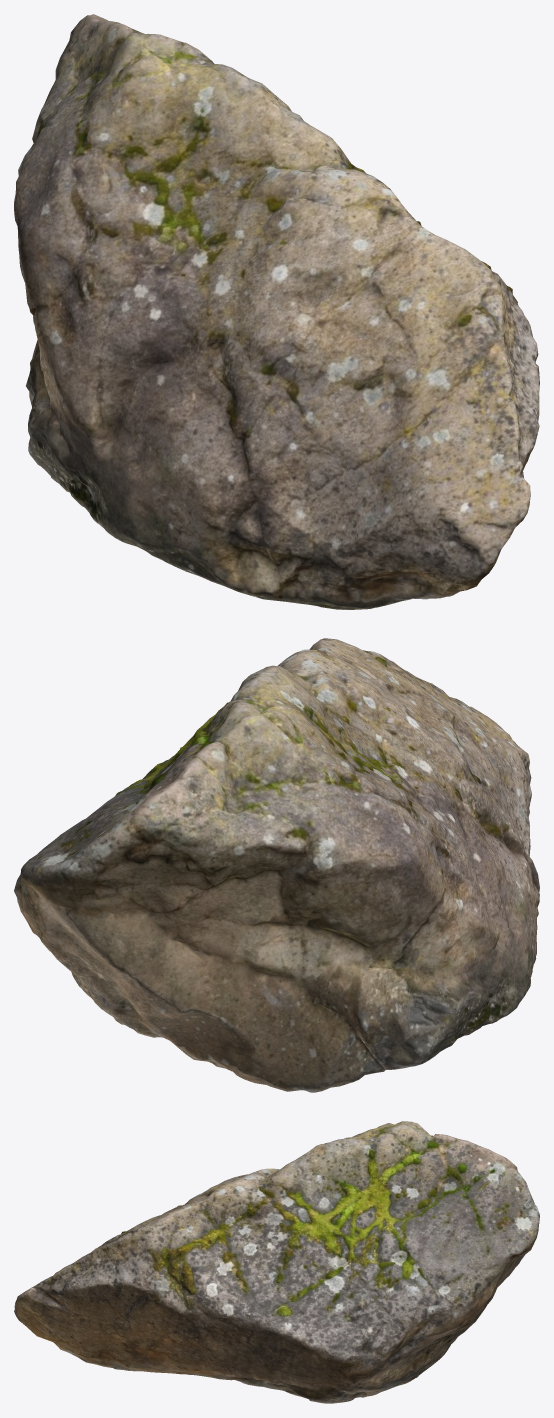
Rendered from webrock.glb.
The picture shows the model from 3 angles, top to bottom: view 1: azimuth 30°, elevation 25°; view 2: azimuth 150°, elevation 25°; view 3: azimuth 270°, elevation 25°; orthographic projection. The views are drawn at different scales.
Parts seen in each view (by area): view 1: Large Rock 03; view 2: Large Rock 03; view 3: Large Rock 03.
Part boxes in pixels (bbox=[...]): Large Rock 03: bbox=[14, 14, 539, 609]; Large Rock 03: bbox=[14, 638, 539, 1092]; Large Rock 03: bbox=[14, 1121, 539, 1403].
Bounding box in the file's own units: 0.7745 × 0.697 × 1.36.
Materials: 1 (1 with a texture image).
